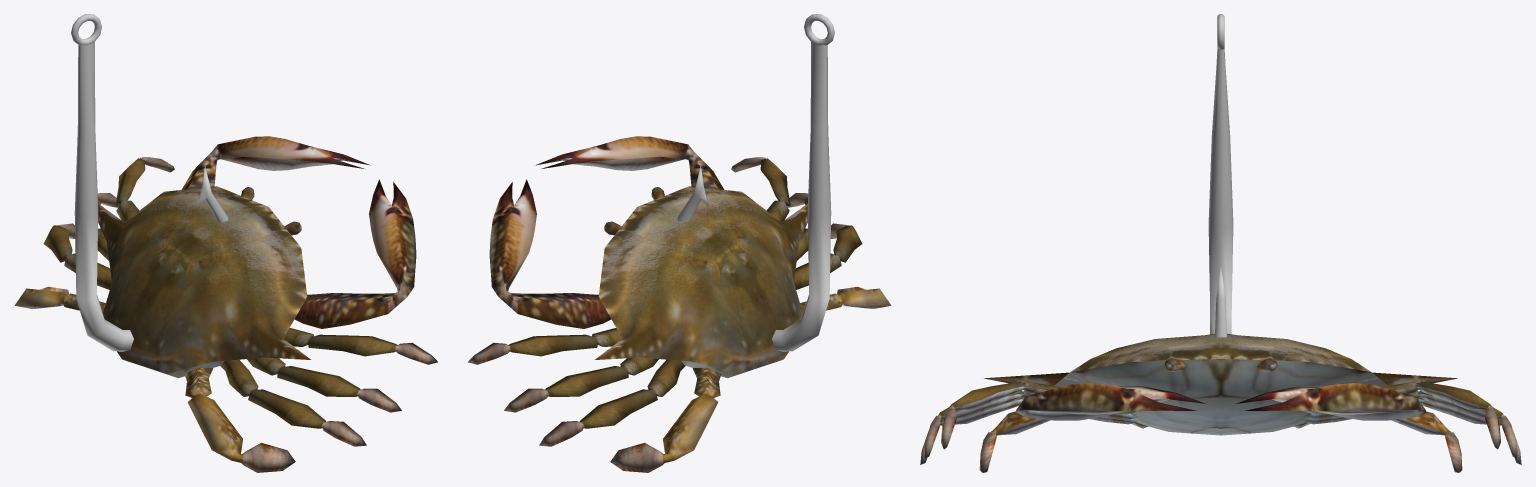
Rendered from Bait_Crab.fbx.
3 renders of one model, left to right at view 1: azimuth 30°, elevation 25°; view 2: azimuth 150°, elevation 25°; view 3: azimuth 270°, elevation 25°, orthographic. The views are drawn at different scales.
Parts seen in each view (by area): view 1: Bait_SwimmingCrab; view 2: Bait_SwimmingCrab; view 3: Bait_SwimmingCrab.
Part boxes in pixels (x1,y1,x2,y2): Bait_SwimmingCrab: [14, 14, 437, 472]; Bait_SwimmingCrab: [468, 14, 891, 472]; Bait_SwimmingCrab: [920, 14, 1521, 472].
Bounding box in the file's own units: 0.4065 × 0.4904 × 0.6473.
